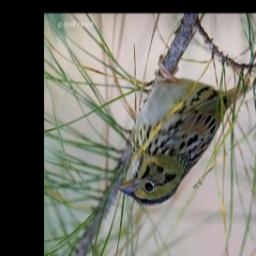Sparrow: (116, 56, 256, 209)
